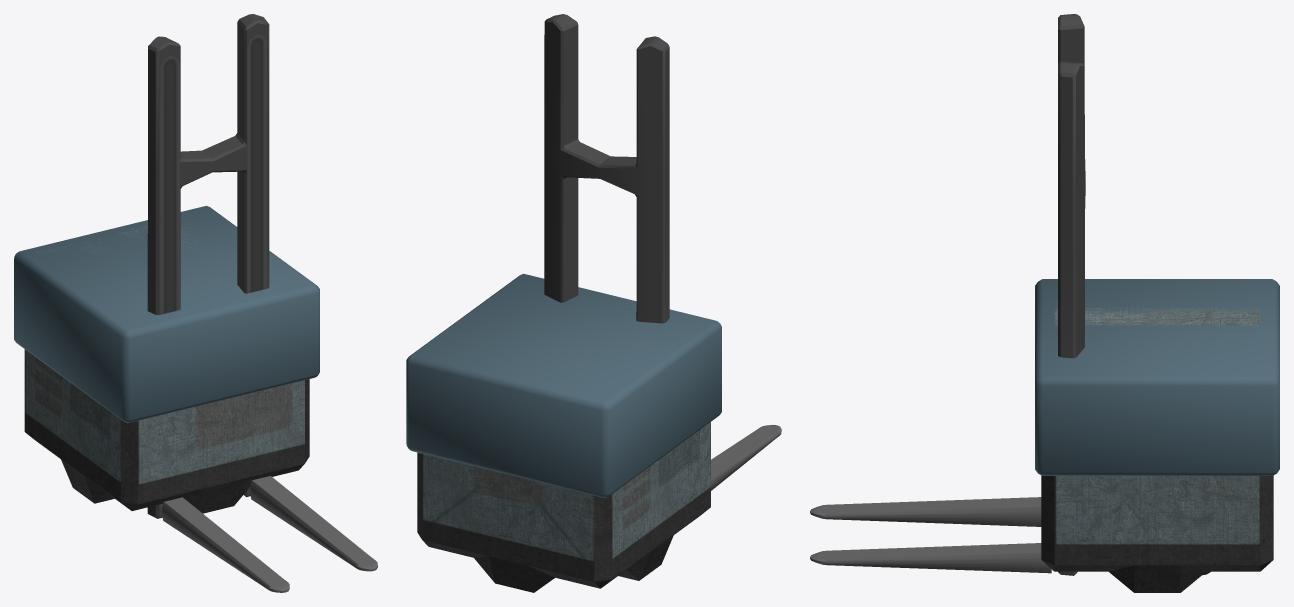
File: figures.glb
3 views of the same model, side by side, from view 1: azimuth 30°, elevation 25°; view 2: azimuth 150°, elevation 25°; view 3: azimuth 270°, elevation 25° (orthographic). The views are drawn at different scales.
Parts seen in each view (by area): view 1: floor, crate, mast, forks; view 2: floor, crate, mast, forks; view 3: floor, crate, forks, mast.
Part boxes in pixels (left/top/right/bottom): floor: left=14, top=205, right=319, bottom=423; crate: left=24, top=221, right=309, bottom=513; mast: left=147, top=14, right=269, bottom=518; forks: left=162, top=476, right=377, bottom=592; floor: left=406, top=273, right=721, bottom=497; crate: left=417, top=306, right=710, bottom=592; mast: left=544, top=14, right=669, bottom=323; forks: left=711, top=425, right=781, bottom=490; floor: left=1035, top=279, right=1279, bottom=475; crate: left=1041, top=301, right=1273, bottom=592; forks: left=810, top=497, right=1051, bottom=573; mast: left=1058, top=14, right=1085, bottom=575.
Bounding box in the file's own units: 1 × 2.3 × 1.92.
Materials: 6 (6 with a texture image).
